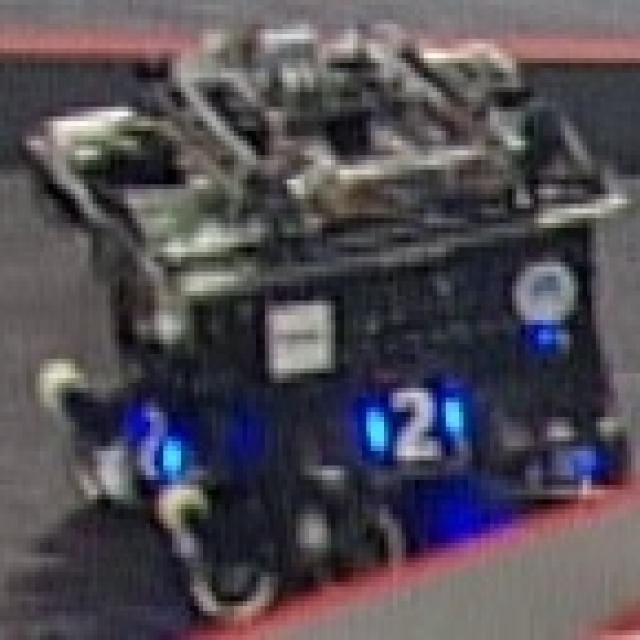B2: (353, 374, 468, 466), (119, 388, 190, 480)
